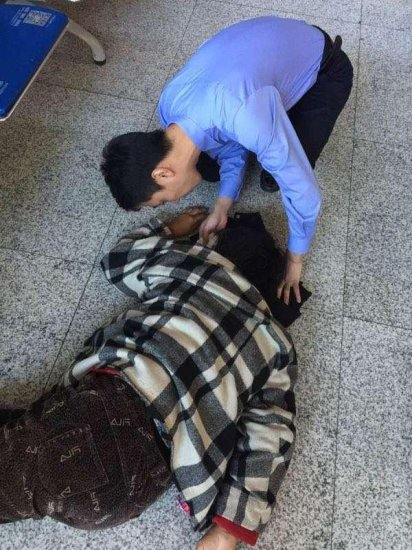fall: (19, 174, 306, 550)
